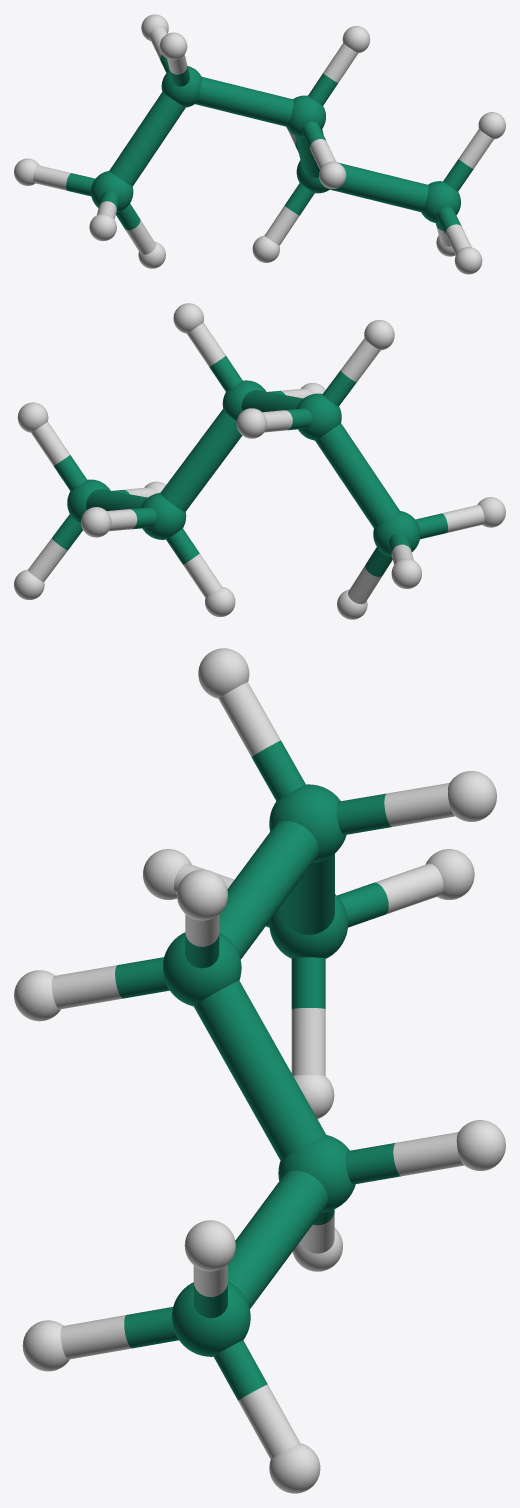
File: asset.glb
3 views of the same model, one above another, from view 1: azimuth 30°, elevation 25°; view 2: azimuth 150°, elevation 25°; view 3: azimuth 270°, elevation 25° (orthographic). The views are drawn at different scales.
Bounding box in the file's own units: 5.87 × 4.07 × 3.17.
